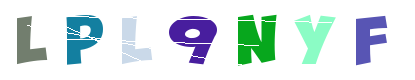9: (168, 0, 248, 80)
F: (261, 0, 341, 80)
L: (6, 0, 86, 80), (116, 0, 196, 80)
N: (216, 0, 296, 80)
P: (41, 0, 121, 80)
Y: (229, 0, 309, 80)
